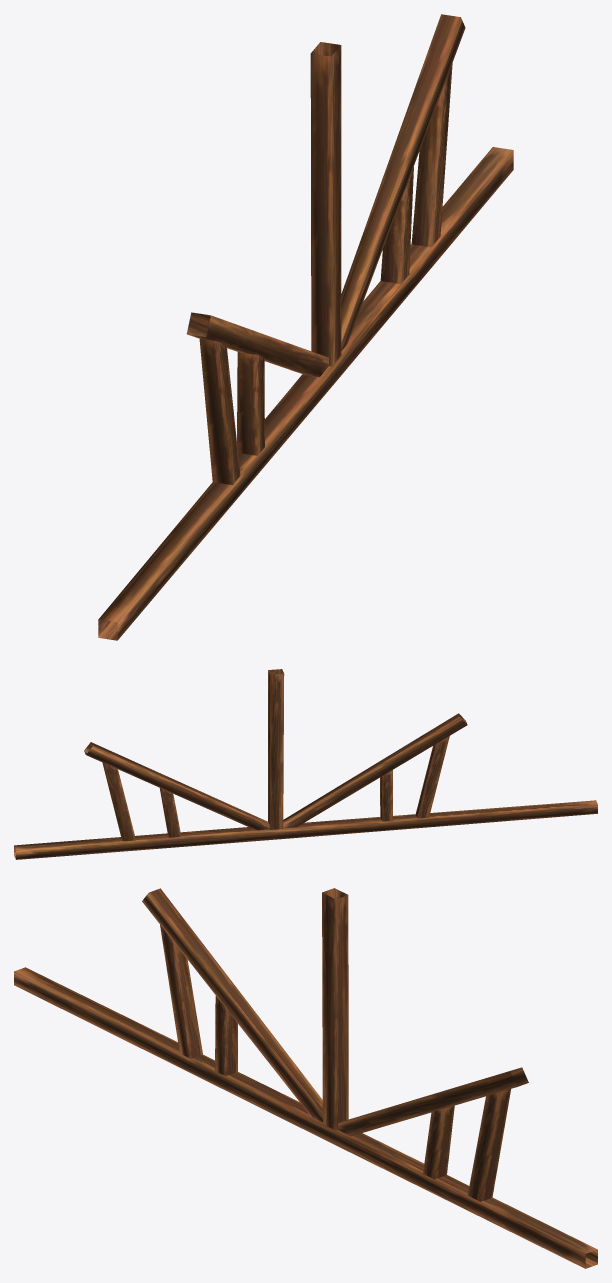
File: SWORDLIGHT20_JAILCEILBRACKET15.fbx
3 views of the same model, one above another, from view 1: azimuth 30°, elevation 25°; view 2: azimuth 150°, elevation 25°; view 3: azimuth 270°, elevation 25° (orthographic). The views are drawn at different scales.
Visible parts, largest first — view 1: SWORDLIGHT20_JAILCEILBRACKET15; view 2: SWORDLIGHT20_JAILCEILBRACKET15; view 3: SWORDLIGHT20_JAILCEILBRACKET15.
Boxes of the visible parts, x1,y1,x2,y2 form: SWORDLIGHT20_JAILCEILBRACKET15: [98, 14, 513, 640]; SWORDLIGHT20_JAILCEILBRACKET15: [14, 669, 597, 859]; SWORDLIGHT20_JAILCEILBRACKET15: [14, 888, 597, 1268].
Size of the model in its own units: 124401 by 49666 by 106842.
Materials: 1 (1 with a texture image).
